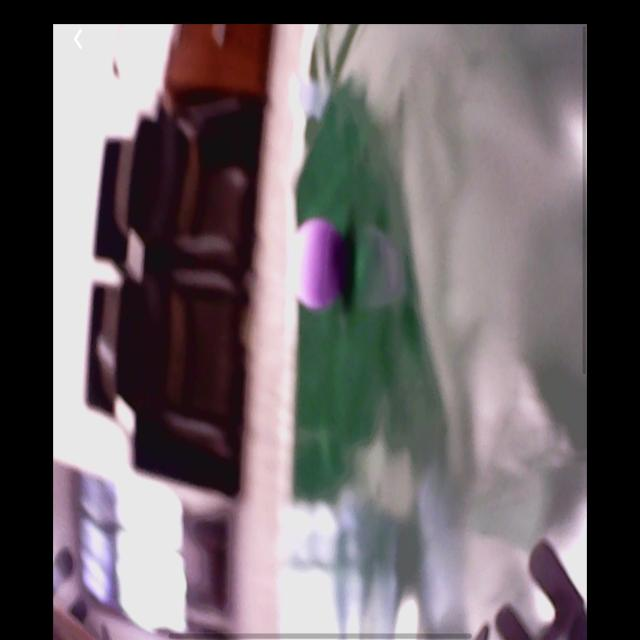ball: (284, 219, 347, 312)
